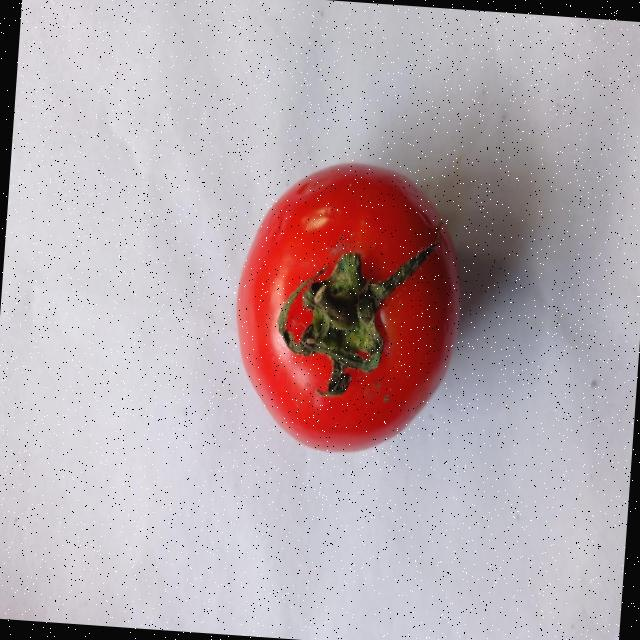Ripe: (223, 153, 472, 464)
